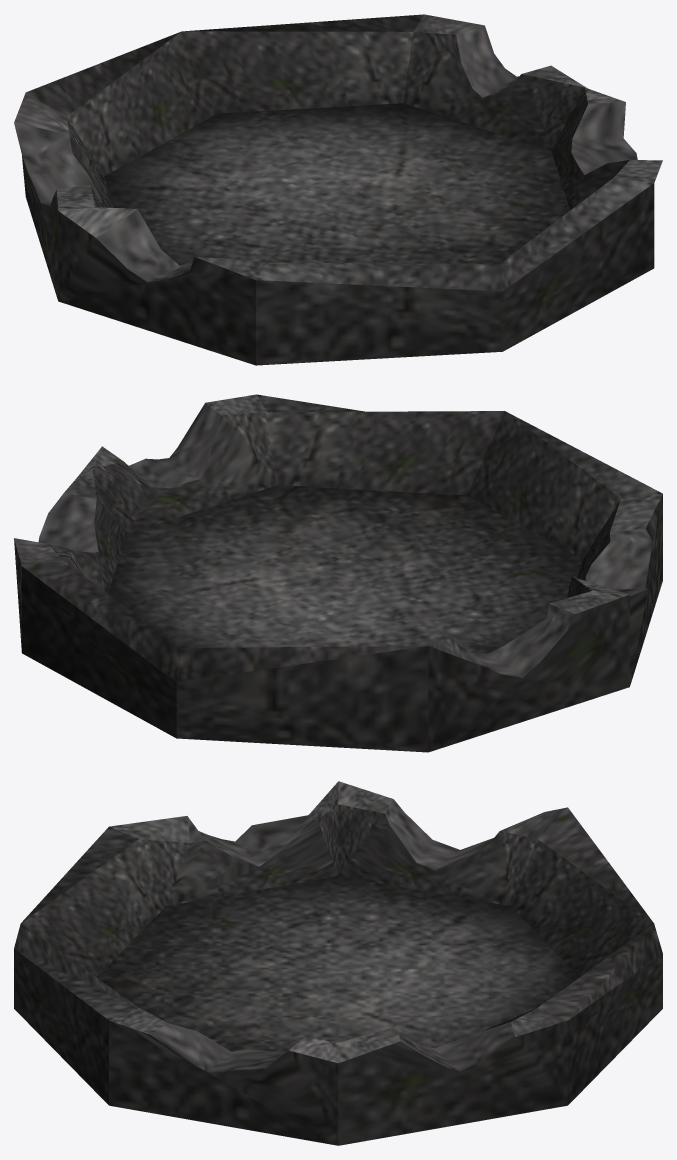
File: ashtray.glb
3 views of the same model, one above another, from view 1: azimuth 30°, elevation 25°; view 2: azimuth 150°, elevation 25°; view 3: azimuth 270°, elevation 25° (orthographic). The views are drawn at different scales.
Visible parts, largest first — view 1: Cylinder; view 2: Cylinder; view 3: Cylinder.
Boxes of the visible parts, box(x1,y1,x2,y2) form: Cylinder: box(14, 14, 662, 365); Cylinder: box(14, 394, 662, 752); Cylinder: box(14, 781, 662, 1145).
Bounding box in the file's own units: 0.1381 × 0.0245 × 0.1381.
Materials: 1 (1 with a texture image).
